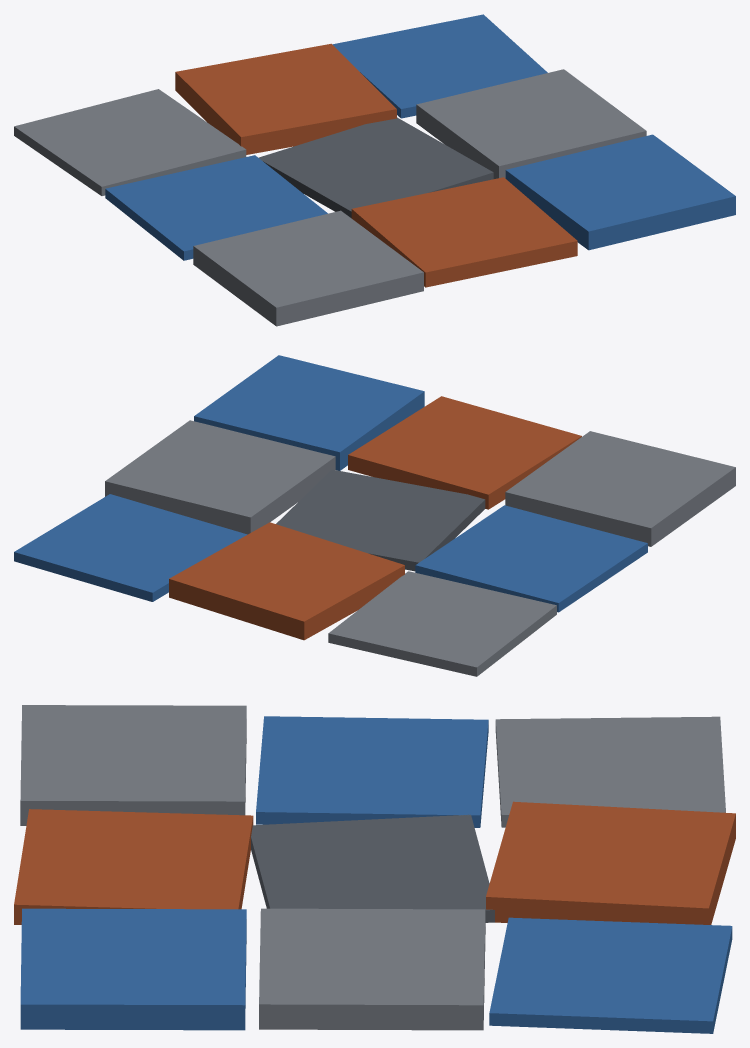
File: env_r7_scrap_plate_patch.glb
3 views of the same model, one above another, from view 1: azimuth 30°, elevation 25°; view 2: azimuth 150°, elevation 25°; view 3: azimuth 270°, elevation 25° (orthographic). The views are drawn at different scales.
Visible parts, largest first — view 1: env_r7_scrap_plate_patch; view 2: env_r7_scrap_plate_patch; view 3: env_r7_scrap_plate_patch.
Part boxes in pixels (box(x1,y1,x2,y2)): env_r7_scrap_plate_patch: box(14, 14, 735, 326); env_r7_scrap_plate_patch: box(14, 355, 735, 676); env_r7_scrap_plate_patch: box(14, 705, 735, 1033).
Bounding box in the file's own units: 2.6 × 0.1 × 2.6.
Materials: 1 (1 with a texture image).
